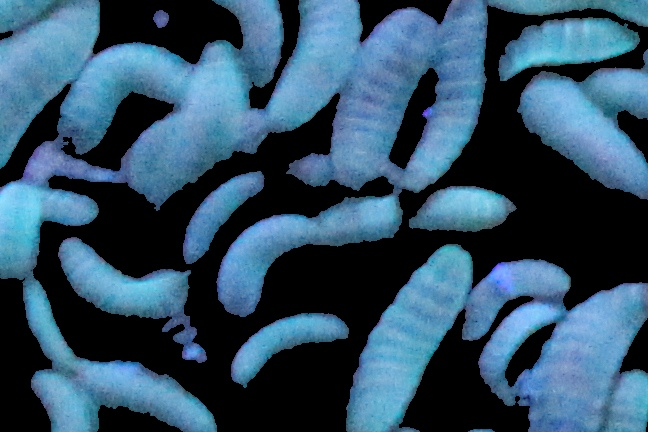larvae: (344, 245, 476, 432), (326, 8, 440, 189), (528, 283, 646, 432), (57, 40, 202, 161), (131, 38, 241, 193), (408, 1, 492, 199), (520, 72, 648, 201), (1, 1, 100, 159), (265, 1, 364, 139), (63, 349, 218, 432), (217, 210, 333, 317), (58, 237, 192, 324), (472, 301, 574, 405), (454, 258, 572, 346), (229, 308, 350, 387), (496, 15, 640, 75), (188, 169, 263, 264), (213, 1, 287, 86), (1, 178, 45, 292), (28, 365, 98, 432), (24, 278, 74, 369), (1, 1, 104, 44), (412, 188, 518, 229), (588, 64, 648, 118), (601, 364, 647, 432)
